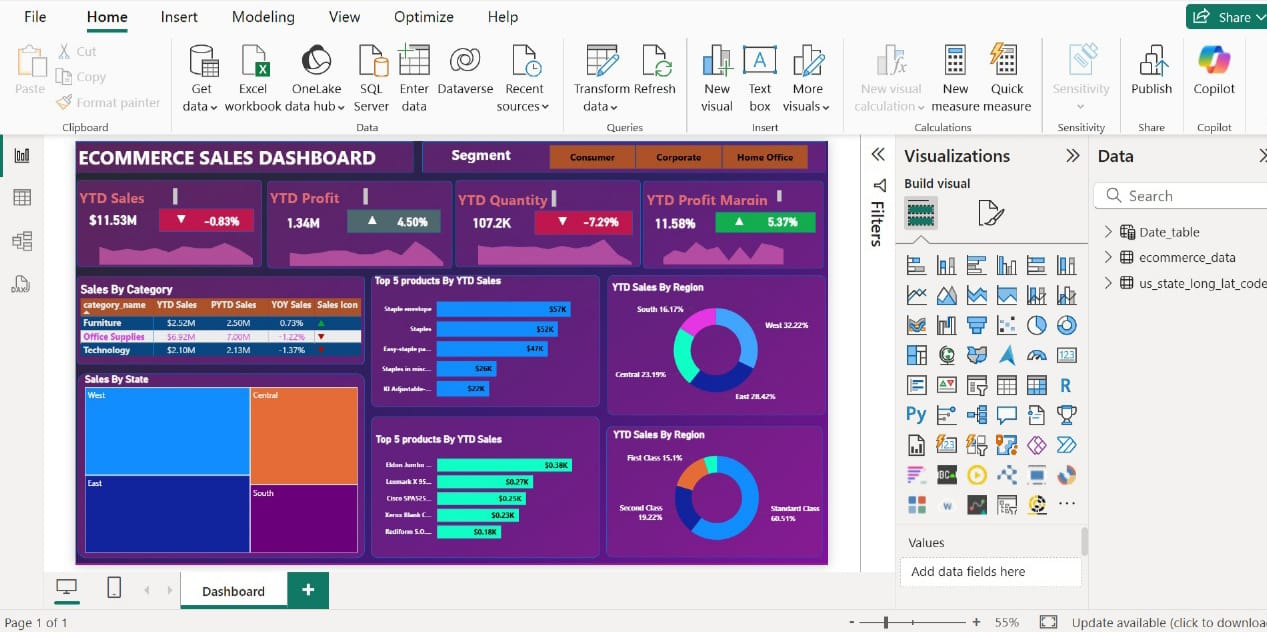

The page's visual inventory and layout, read from the dashboard file:
{"tool":"powerbi","page":{"name":"Page 1","canvas":[1280,720],"ordinal":0},"visuals":[{"type":"shape","box":[2.2,66.3,315.2,148.9],"z":0},{"type":"shape","box":[142.2,113.8,161.8,39.1],"z":1000},{"type":"shape","box":[0,0,574.4,53.8],"z":2000},{"type":"textbox","box":[0,0,524.2,54.5],"z":3000},{"type":"card","fields":{"Values":["ecommerce_data.YTD Sales"]},"box":[1.8,113.8,124.4,39.1],"z":4000},{"type":"areaChart","fields":{"Y":["Sum(ecommerce_data.sales_per_order)"],"Category":["Date_table.Month_number"]},"box":[1.8,152.9,314.7,62.2],"z":5000},{"type":"card","fields":{"Values":["ecommerce_data.YOY Sales"]},"box":[211.5,115.6,74.7,39.1],"z":6000},{"type":"card","fields":{"Values":["ecommerce_data.Sales Icon"]},"box":[160,113.8,39.1,37.3],"z":7000},{"type":"textbox","box":[2.2,73.9,176.1,40.2],"z":8000},{"type":"shape","box":[325.1,67.5,315.2,148.9],"z":9000},{"type":"shape","box":[462.2,115.6,158.2,39.1],"z":10000},{"type":"card","fields":{"Values":["ecommerce_data.YTD Profit"]},"box":[325.3,115.6,122.7,42.7],"z":11000},{"type":"areaChart","fields":{"Category":["Date_table.Month_number"],"Y":["Sum(ecommerce_data.profit_per_order)"]},"box":[325.3,154.7,314.7,62.2],"z":12000},{"type":"card","fields":{"Values":["ecommerce_data.YOY Profit"]},"box":[536.9,115.6,72.9,40.9],"z":13000},{"type":"card","fields":{"Values":["ecommerce_data.Profit Icon"]},"box":[483.5,115.6,40.9,35.6],"z":14000},{"type":"textbox","box":[325.1,75.1,176.1,40.2],"z":15000},{"type":"shape","box":[645.7,66.3,315.2,148.9],"z":16000},{"type":"shape","box":[780.4,117.3,167.1,40.9],"z":17000},{"type":"card","fields":{"Values":["ecommerce_data.YTD Quantity"]},"box":[645.3,117.3,122.7,40.9],"z":18000},{"type":"areaChart","fields":{"Category":["Date_table.Month_number"],"Y":["Sum(ecommerce_data.order_quantity)"]},"box":[645.3,151.1,314.7,64],"z":19000},{"type":"card","fields":{"Values":["ecommerce_data.YOY Quantity"]},"box":[856.9,117.3,72.9,39.1],"z":20000},{"type":"card","fields":{"Values":["ecommerce_data.Quantity Icon"]},"box":[803.5,122.7,48,30.2],"z":21000},{"type":"textbox","box":[645.2,77.7,176.1,40.2],"z":22000},{"type":"shape","box":[964.1,67.4,307.6,148.9],"z":23000},{"type":"shape","box":[1088,119.1,170.7,35.6],"z":24000},{"type":"card","fields":{"Values":["ecommerce_data.YTD Profit Margin"]},"box":[965.3,119.1,106.7,39.1],"z":25000},{"type":"card","fields":{"Values":["ecommerce_data.YOY Profit Margin"]},"box":[1152,115.6,97.8,40.9],"z":26000},{"type":"card","fields":{"Values":["ecommerce_data.Profit Margin Icon"]},"box":[1104,120.9,48,33.8],"z":27000},{"type":"textbox","box":[964.8,77.5,239.4,35.2],"z":28000},{"type":"shape","box":[1.8,228.9,490,150],"z":29000},{"type":"areaChart","fields":{"Category":["Date_table.Month_number"],"Y":["ecommerce_data.Profit Margin"]},"box":[964.8,151.4,308.1,63.4],"z":30000},{"type":"pivotTable","title":"Sales By Category","fields":{"Rows":["ecommerce_data.category_name"],"Values":["ecommerce_data.YTD Sales","ecommerce_data.PYTD Sales","ecommerce_data.YOY Sales","ecommerce_data.Sales Icon"]},"box":[3.5,239.4,487.7,139.1],"z":31000},{"type":"shape","box":[4.3,393.7,488.3,314.1],"z":32000},{"type":"shape","box":[501.2,228,390,225],"z":33000},{"type":"shape","box":[501.2,466.8,389.4,240.9],"z":34000},{"type":"barChart","title":"Top 5 products By YTD Sales","fields":{"Category":["ecommerce_data.product_name"],"Y":["ecommerce_data.YTD Sales"]},"box":[503.4,228,389.4,225.9],"z":35000},{"type":"barChart","title":"Bottom 5 product Name By YTD Sales","fields":{"Category":["ecommerce_data.product_name"],"Y":["ecommerce_data.YTD Sales"]},"box":[505.5,496.9,385.1,195.8],"z":36000},{"type":"shape","box":[903.5,228,372.1,238.8],"z":37000},{"type":"shape","box":[901.3,484,367.8,223.7],"z":38000},{"type":"donutChart","title":"YTD Sales By Region","fields":{"Category":["ecommerce_data.customer_region"],"Y":["ecommerce_data.YTD Sales"]},"box":[907.8,238.8,361.4,215.1],"z":39000},{"type":"donutChart","title":"YTD Sales By Shipping Type","fields":{"Y":["ecommerce_data.YTD Sales"],"Category":["ecommerce_data.shipping_type"]},"box":[909.9,488.3,361.4,215.1],"z":40000},{"type":"shape","box":[589.4,0,686.2,53.8],"z":41000},{"type":"slicer","fields":{"Values":["ecommerce_data.customer_segment"]},"box":[780.9,0,488.3,53.8],"z":42000},{"type":"textbox","box":[610.9,0,157,53.8],"z":43000},{"type":"treemap","title":"Sales By State","fields":{"Group":["ecommerce_data.customer_region"],"Values":["ecommerce_data.YTD Sales"]},"box":[10.8,393.7,473.3,309.8],"z":44000}]}

Visuals, with their boxes on the page's 1280x720 design canvas (x1, y1, x2, y2). These are canvas units, not pixel positions in the 1267x632 screenshot, which may show the page scaled, cropped or inside an application window:
shape: 2/66/317/215
shape: 142/114/304/153
shape: 0/0/574/54
textbox: 0/0/524/54
card - ecommerce_data.YTD Sales: 2/114/126/153
areaChart - Sum(ecommerce_data.sales_per_order) x Date_table.Month_number: 2/153/316/215
card - ecommerce_data.YOY Sales: 212/116/286/155
card - ecommerce_data.Sales Icon: 160/114/199/151
textbox: 2/74/178/114
shape: 325/68/640/216
shape: 462/116/620/155
card - ecommerce_data.YTD Profit: 325/116/448/158
areaChart - Date_table.Month_number x Sum(ecommerce_data.profit_per_order): 325/155/640/217
card - ecommerce_data.YOY Profit: 537/116/610/156
card - ecommerce_data.Profit Icon: 484/116/524/151
textbox: 325/75/501/115
shape: 646/66/961/215
shape: 780/117/948/158
card - ecommerce_data.YTD Quantity: 645/117/768/158
areaChart - Date_table.Month_number x Sum(ecommerce_data.order_quantity): 645/151/960/215
card - ecommerce_data.YOY Quantity: 857/117/930/156
card - ecommerce_data.Quantity Icon: 804/123/852/153
textbox: 645/78/821/118
shape: 964/67/1272/216
shape: 1088/119/1259/155
card - ecommerce_data.YTD Profit Margin: 965/119/1072/158
card - ecommerce_data.YOY Profit Margin: 1152/116/1250/156
card - ecommerce_data.Profit Margin Icon: 1104/121/1152/155
textbox: 965/78/1204/113
shape: 2/229/492/379
areaChart - Date_table.Month_number x ecommerce_data.Profit Margin: 965/151/1273/215
"Sales By Category" pivotTable: 4/239/491/378
shape: 4/394/493/708
shape: 501/228/891/453
shape: 501/467/891/708
"Top 5 products By YTD Sales" barChart: 503/228/893/454
"Bottom 5 product Name By YTD Sales" barChart: 506/497/891/693
shape: 904/228/1276/467
shape: 901/484/1269/708
"YTD Sales By Region" donutChart: 908/239/1269/454
"YTD Sales By Shipping Type" donutChart: 910/488/1271/703
shape: 589/0/1276/54
slicer - ecommerce_data.customer_segment: 781/0/1269/54
textbox: 611/0/768/54
"Sales By State" treemap: 11/394/484/704
